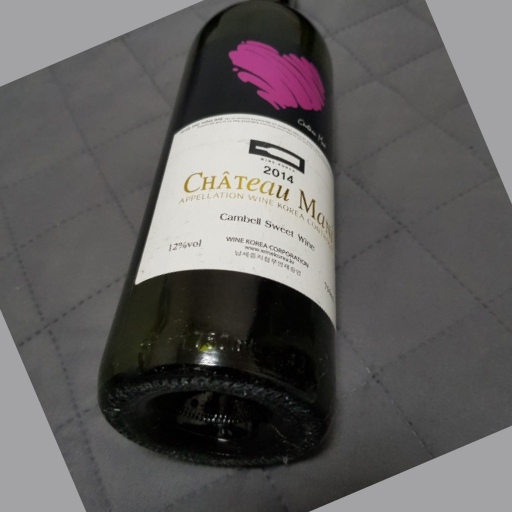Glass_2: (90, 1, 346, 469)
